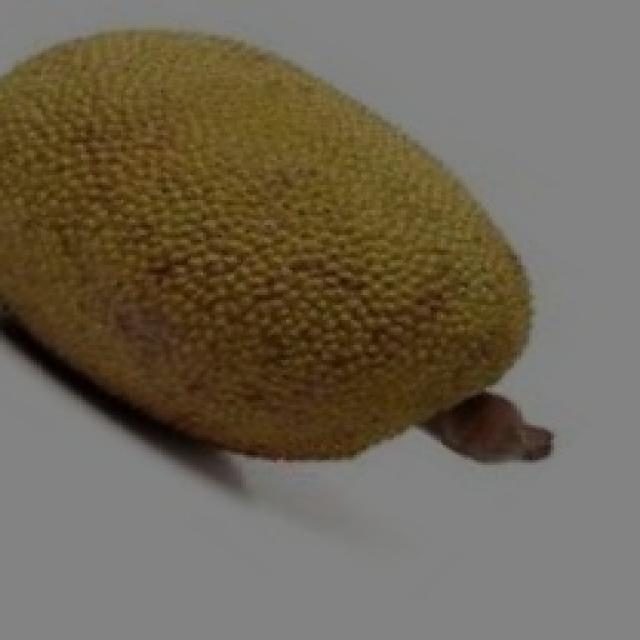Fruit: (0, 0, 403, 460), (228, 7, 575, 475)
